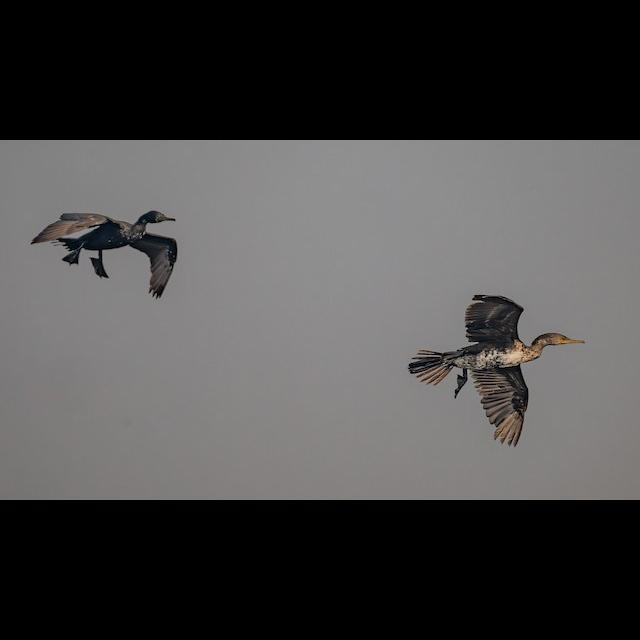cormorant: (410, 287, 592, 448), (30, 202, 184, 300)
